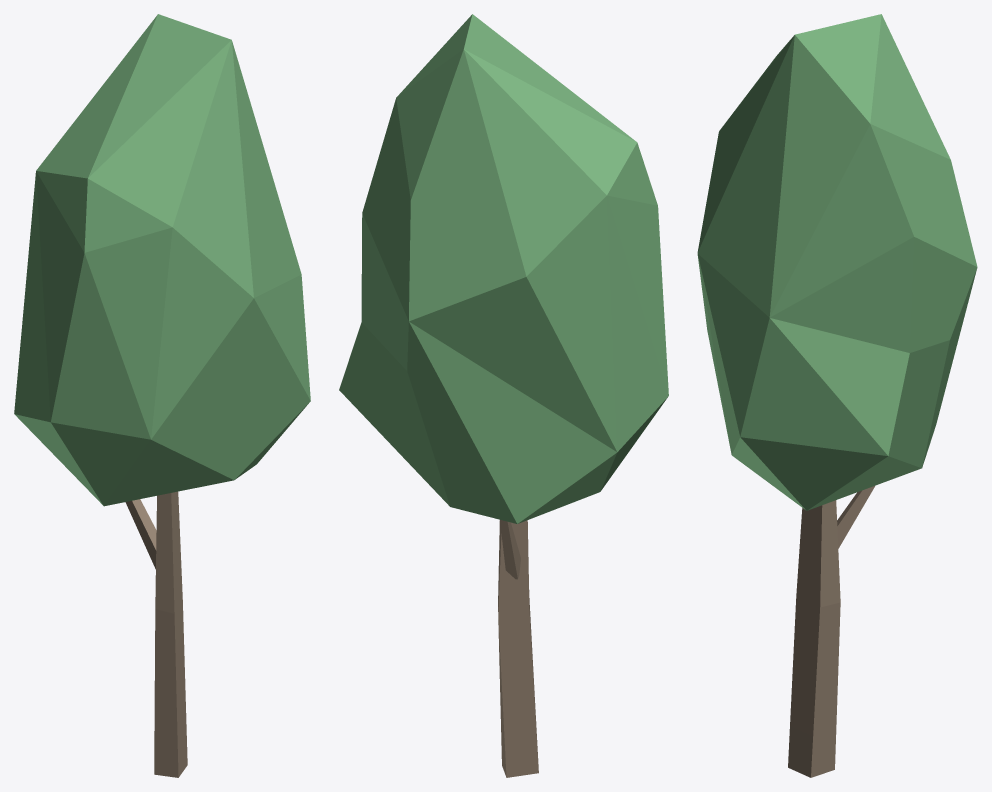
File: tree-simple.glb
3 views of the same model, side by side, from view 1: azimuth 30°, elevation 25°; view 2: azimuth 150°, elevation 25°; view 3: azimuth 270°, elevation 25° (orthographic). The views are drawn at different scales.
Visible parts, largest first — view 1: tree_simple; view 2: tree_simple; view 3: tree_simple.
Part boxes in pixels (left/top/right/bottom): tree_simple: left=14, top=14, right=310, bottom=777; tree_simple: left=339, top=14, right=668, bottom=777; tree_simple: left=697, top=14, right=977, bottom=777.
Size of the model in its own units: 198 by 502 by 166.
